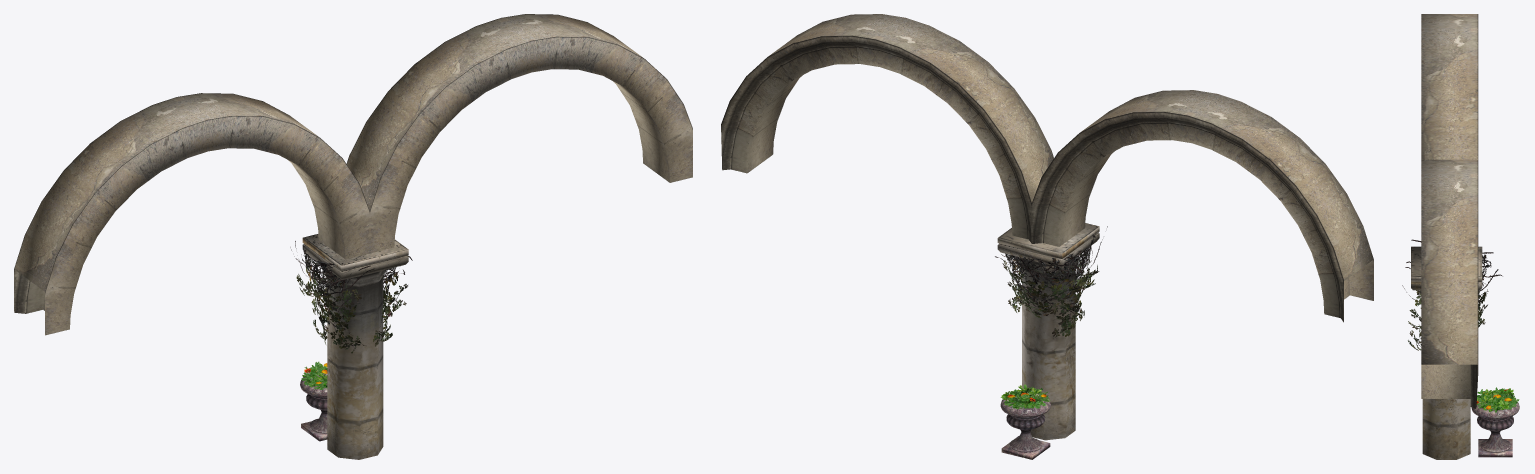
The model's file is sponza_small.obj.
3 renders of one model, left to right at view 1: azimuth 30°, elevation 25°; view 2: azimuth 150°, elevation 25°; view 3: azimuth 270°, elevation 25°, orthographic. The views are drawn at different scales.
Visible parts, largest first — view 1: sponza_17_sponza_17_arch; view 2: sponza_17_sponza_17_arch; view 3: sponza_17_sponza_17_arch.
Part boxes in pixels (left/top/right/bottom): sponza_17_sponza_17_arch: left=14, top=14, right=692, bottom=459; sponza_17_sponza_17_arch: left=721, top=14, right=1373, bottom=459; sponza_17_sponza_17_arch: left=1402, top=14, right=1519, bottom=459.
Bounding box in the file's own units: 74.04 × 41.43 × 12.76.
